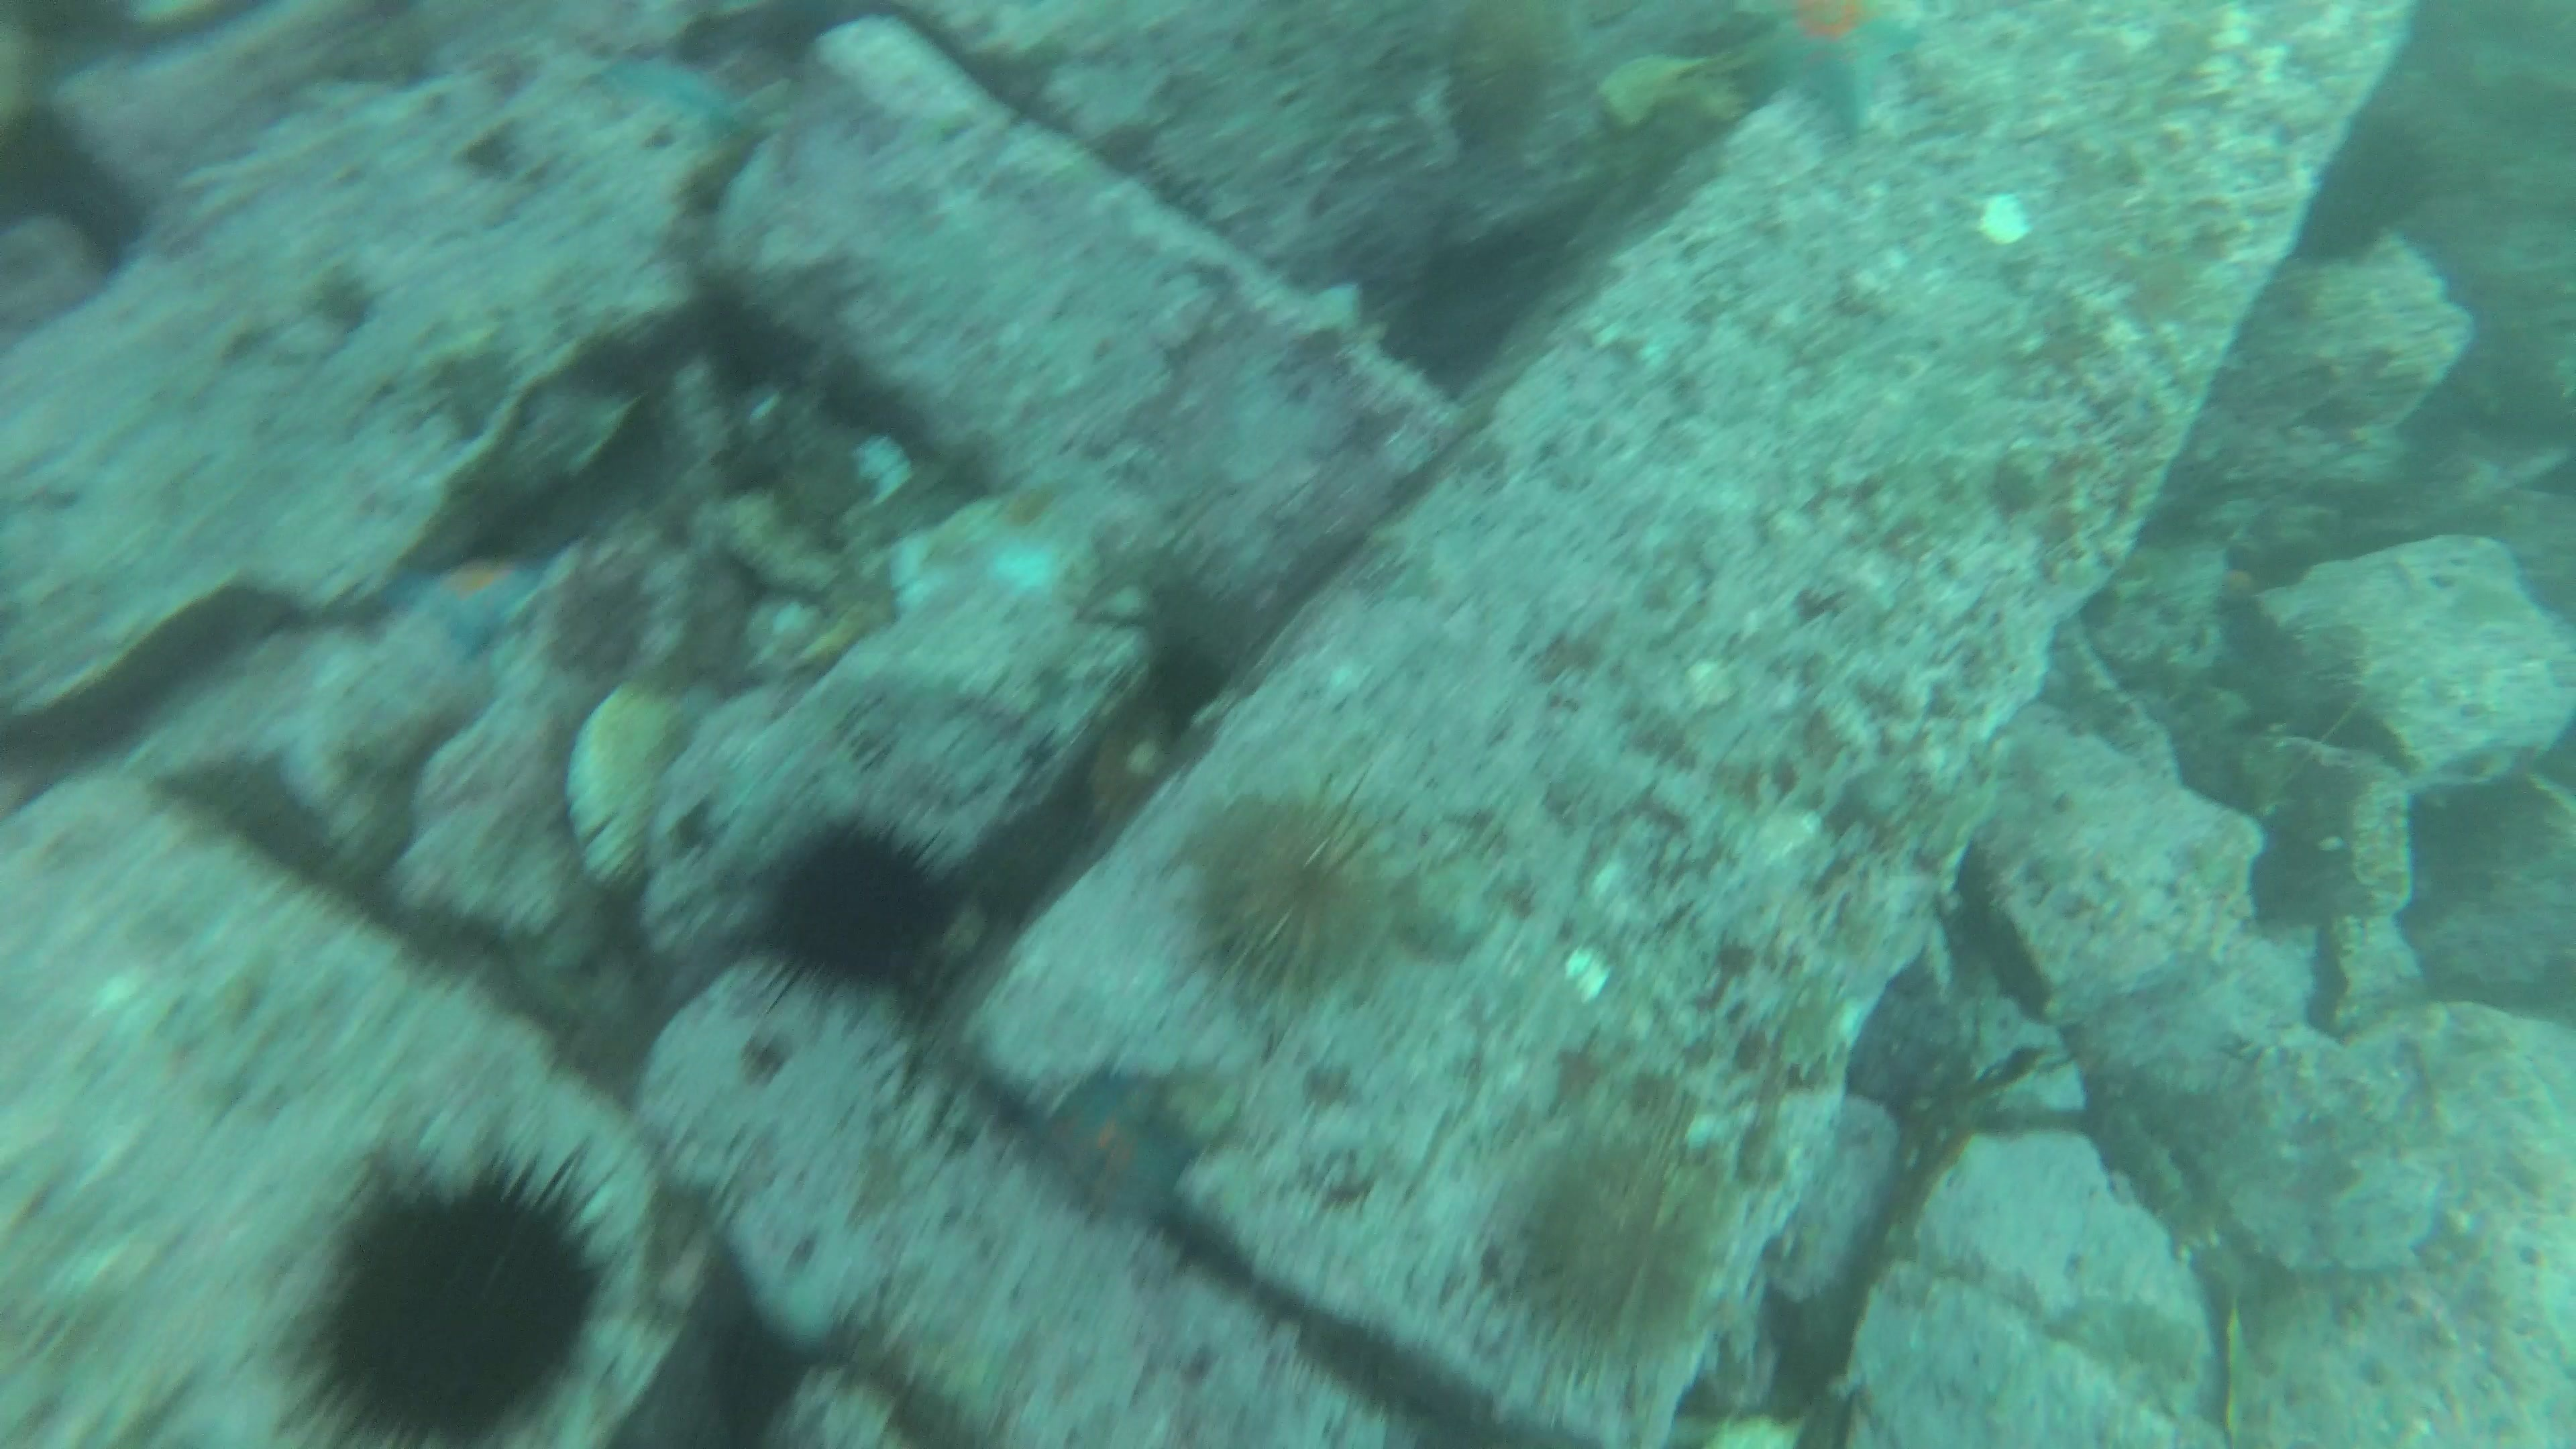echinus: (278, 1134, 628, 1444), (1491, 1123, 1739, 1369), (1173, 778, 1405, 996), (740, 809, 962, 1003), (2295, 108, 2445, 269)
starfish: (1714, 2, 1937, 143), (1030, 1065, 1201, 1231), (398, 541, 557, 662), (579, 44, 757, 142)
